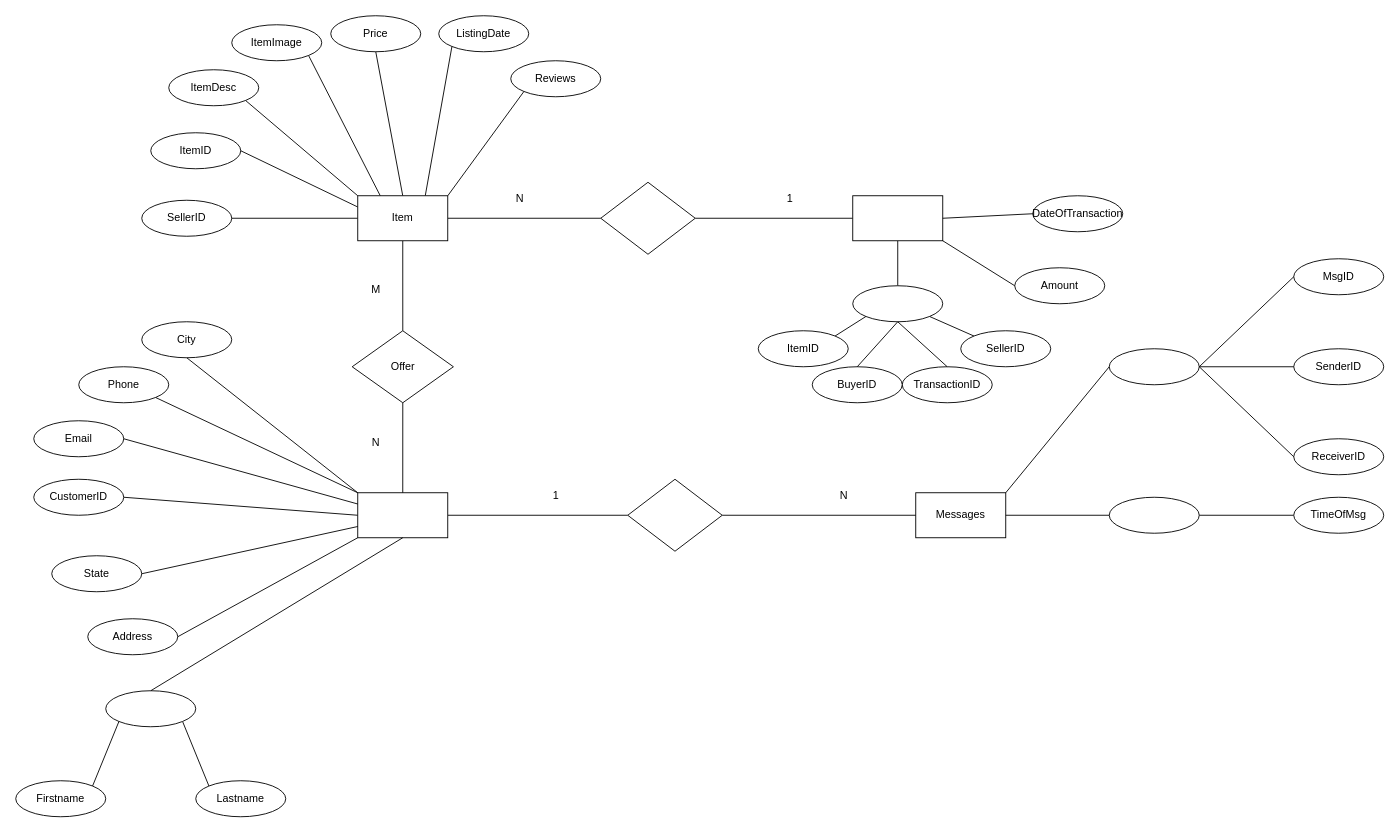
Some shapes in this 1400 by 833 pixel diagram are drawn without their labels. Here are the shapes that lost their labels. From the top down, the centre of each, then its label:
At pixel 647 217: "Sold".
At pixel 897 218: "Transaction".
At pixel 897 303: "IDs".
At pixel 1153 366: "ID".
At pixel 402 515: "Customer".
At pixel 674 514: "Manage".
At pixel 1153 514: "MsgContent".
At pixel 150 708: "Name".
